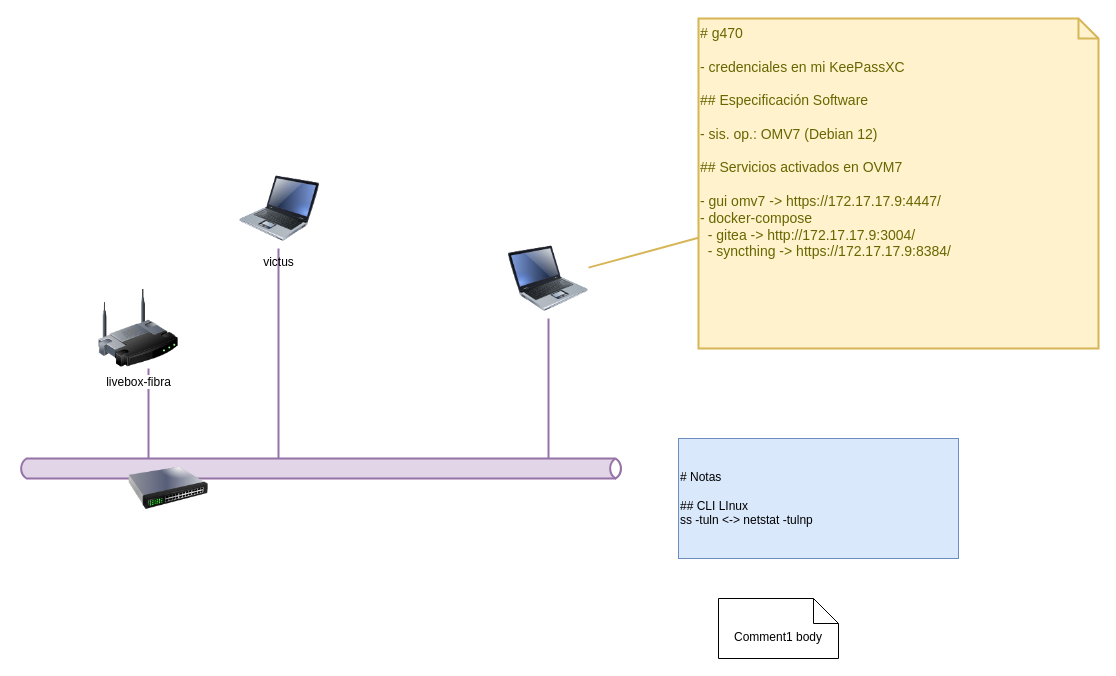
The diagram is 1116 pixels wide and 676 high, and some of its shapes have lost their labels. Each missing label, with the centre of its shape:
172.17.17.0/24 (LAN inicial): the point at 320,468
g470: the point at 548,278
switch 5 ports: the point at 168,488
